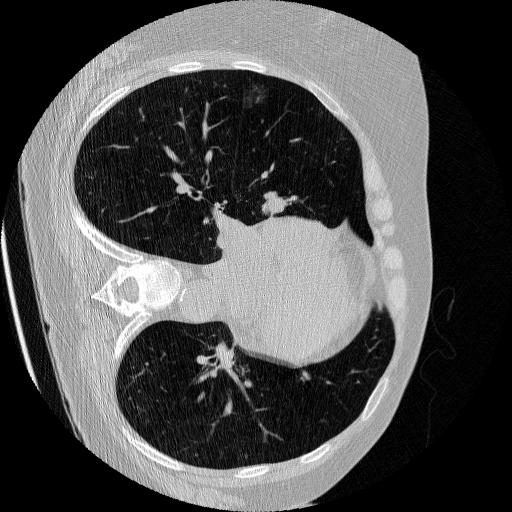nodule: (239, 78, 273, 112)
